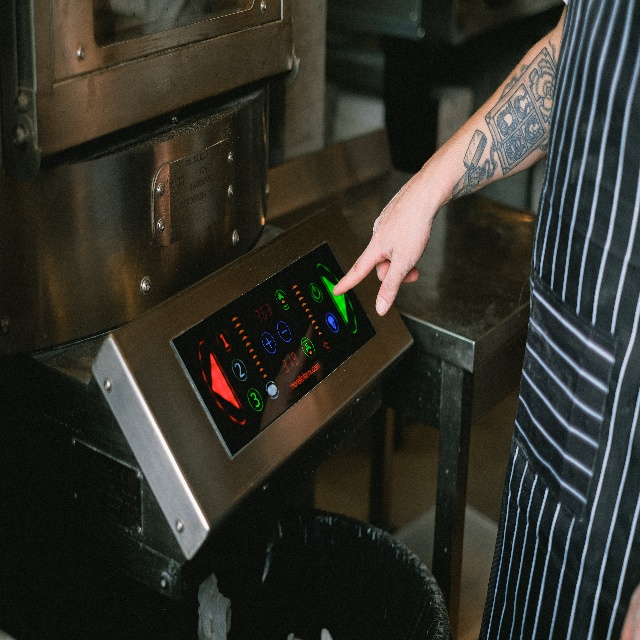Sin_guantes: (332, 167, 437, 316)
